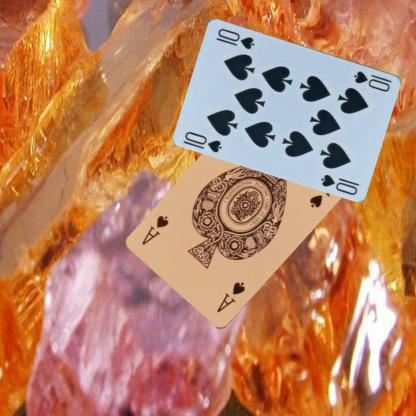10s: (182, 128, 224, 154), (352, 68, 394, 93)
As: (214, 279, 247, 314)
